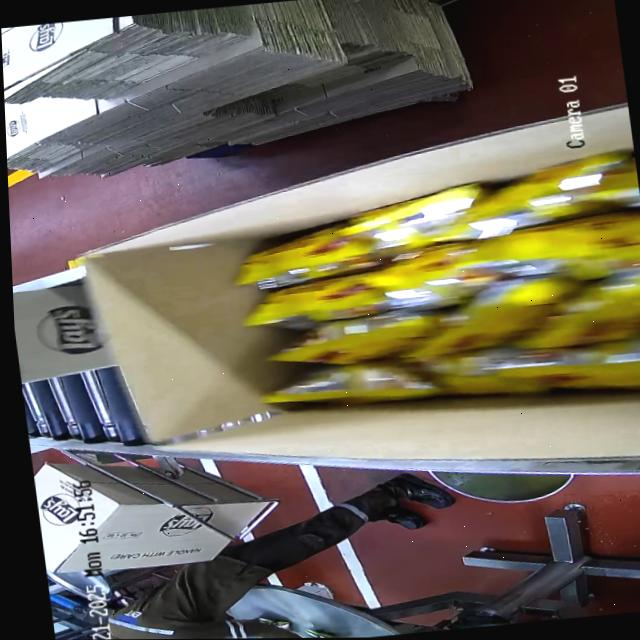SALTED: (227, 133, 640, 436)
